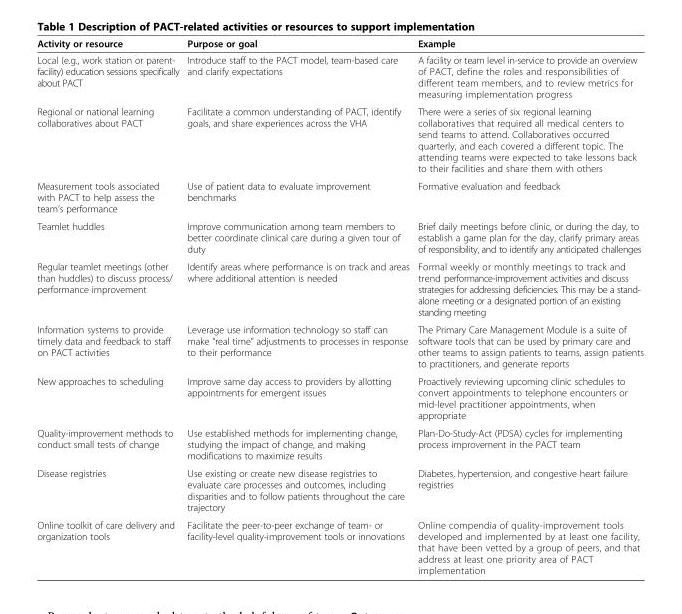table: (36, 37, 642, 575)
table column: (182, 37, 412, 575), (412, 37, 642, 575), (36, 37, 182, 575)
table column header: (36, 37, 642, 51)
table row: (36, 102, 642, 176), (36, 257, 642, 320), (36, 515, 642, 575), (36, 320, 642, 372), (36, 51, 642, 102), (36, 372, 642, 423), (36, 464, 642, 515), (36, 176, 642, 217), (36, 423, 642, 464), (36, 217, 642, 257), (36, 37, 642, 51)
